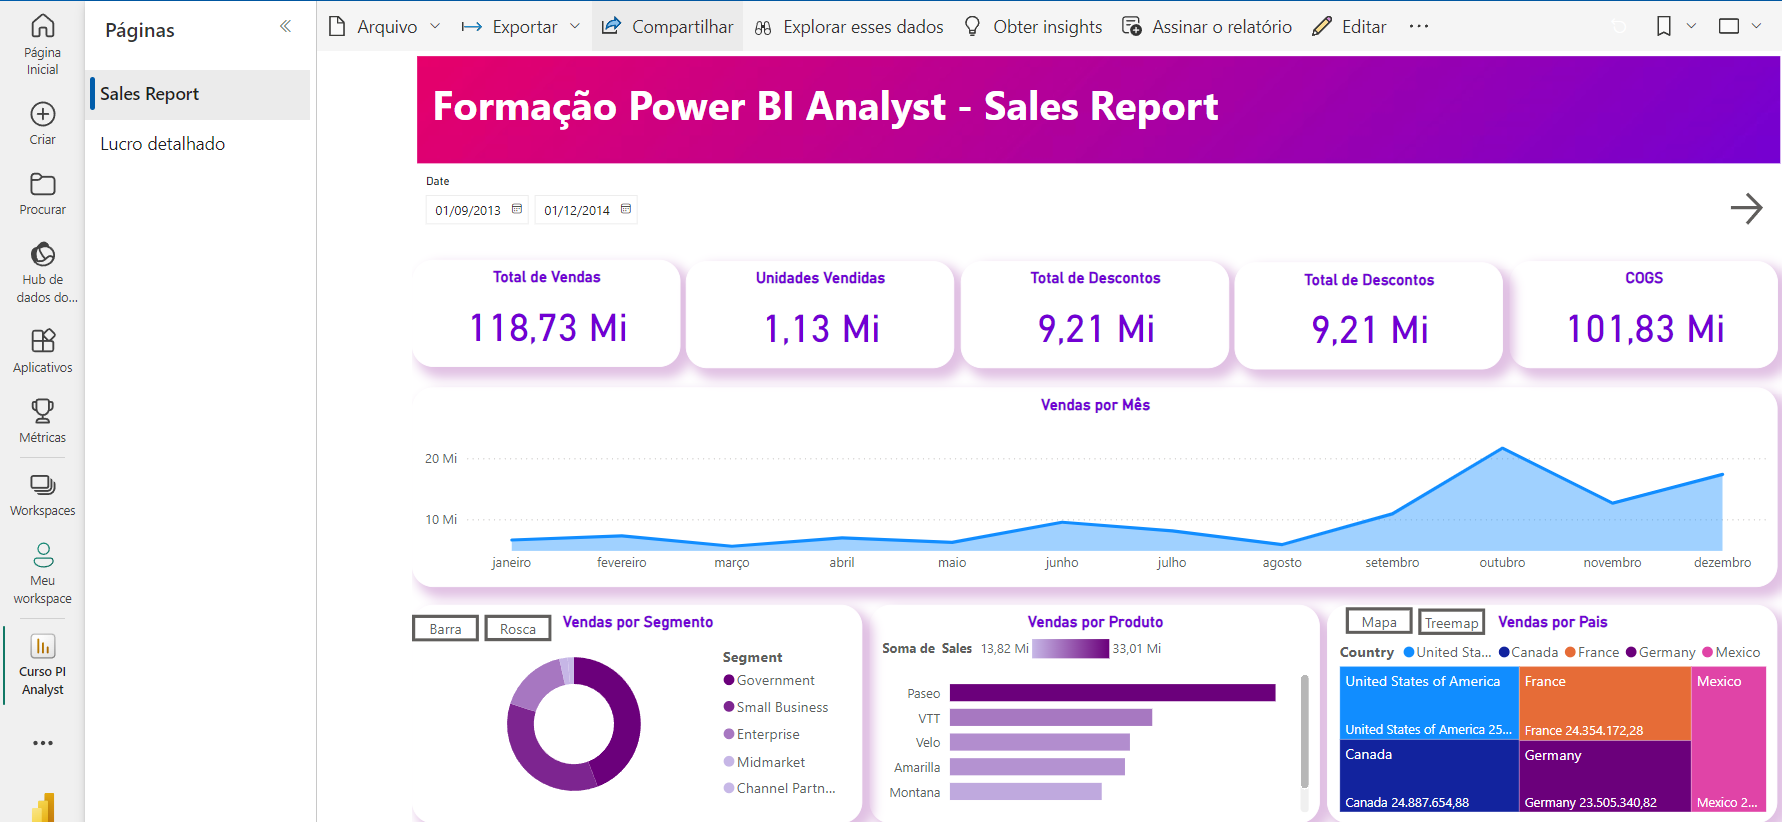

This screenshot's page, from the dashboard's own definition file:
{"tool":"powerbi","page":{"name":"Página 1","canvas":[1280,720],"ordinal":0},"visuals":[{"type":"group","id":"g1","title":"Titulo PrincipaL","box":[0,0,1280.3,109.8],"z":0},{"type":"group","id":"g2","title":"Grupo 2","box":[0,0,1280.3,109.8],"z":0,"group":"g1"},{"type":"image","box":[0,0,1280.2,109.5],"z":0,"group":"g2"},{"type":"card","title":"COGS","fields":{"Values":["Sum(financials.COGS)"]},"box":[1023.6,196.6,250,100.2],"z":0,"group":"g3"},{"type":"treemap","title":"Vendas por Pais","fields":{"Group":["financials.Country"],"Values":["Sum(financials. Sales)"],"Details":["financials.Country"]},"box":[853.8,516.2,420,203.8],"z":0,"group":"g5"},{"type":"textbox","box":[13.7,19.3,1037.8,63.8],"z":1000,"group":"g2"},{"type":"card","title":"Total de Vendas","fields":{"Values":["Sum(financials. Sales)"]},"box":[0,195.2,250,100.2],"z":1000,"group":"g3"},{"type":"areaChart","title":"Vendas por Mês","fields":{"Y":["Sum(financials. Sales)"],"Category":["financials.Date.Variation.Hierarquia de datas.Mês"]},"box":[0,313.2,1273.4,186.6],"z":1000},{"type":"donutChart","title":"Vendas por Segmento","fields":{"Category":["financials.Segment"],"Y":["Sum(financials. Sales)"]},"box":[0,516.2,420,203.8],"z":1000,"group":"g4"},{"type":"card","title":"Unidades Vendidas","fields":{"Values":["Sum(financials.Units Sold)"]},"box":[255.8,196.6,250,100.2],"z":2000,"group":"g3"},{"type":"clusteredBarChart","title":"Vendas por Produto","fields":{"Y":["Sum(financials. Sales)"],"Category":["financials.Product"]},"box":[426.9,516.2,420,203.8],"z":2000},{"type":"actionButton","title":"Mapa","box":[870.8,518.9,62.5,25],"z":2000,"group":"g5"},{"type":"slicer","fields":{"Values":["financials.Date"]},"box":[0,110,298.8,73.8],"z":3000},{"type":"card","title":"Total de Descontos","fields":{"Values":["Sum(financials.Discounts)"]},"box":[511.7,196.6,250,100.2],"z":3000,"group":"g3"},{"type":"actionButton","title":"treemap","box":[938.8,519.3,62.7,24.7],"z":3000,"group":"g5"},{"type":"group","id":"g3","title":"Cards primários","box":[0,195.2,1273.6,102.9],"z":4000},{"type":"card","title":"Total de Descontos","fields":{"Values":["Sum(financials.Discounts)"]},"box":[767.6,197.9,250,100.2],"z":4000,"group":"g3"},{"type":"group","id":"g4","title":"Vendas por Segmento","box":[0,516.2,420,203.8],"z":5000},{"type":"group","id":"g5","title":"Vendas por Pais","box":[853.8,516.2,426.2,203.8],"z":6000},{"type":"actionButton","title":"Proxima pagina","box":[1223.8,127.5,50,40],"z":7000},{"type":"actionButton","title":"Barra","box":[0,525,62.5,25],"z":8000,"group":"g4"},{"type":"actionButton","title":"Rosca","box":[68,525.3,62.7,24.7],"z":9000,"group":"g4"}]}

Visuals, with their boxes on the page's 1280x720 design canvas (x1, y1, x2, y2). These are canvas units, not pixel positions in the 1782x822 screenshot, which may show the page scaled, cropped or inside an application window:
"Titulo PrincipaL" group: (0, 0, 1280, 110)
"Grupo 2" group: (0, 0, 1280, 110)
image: (0, 0, 1280, 110)
"COGS" card: (1024, 197, 1274, 297)
"Vendas por Pais" treemap: (854, 516, 1274, 720)
textbox: (14, 19, 1052, 83)
"Total de Vendas" card: (0, 195, 250, 295)
"Vendas por Mês" areaChart: (0, 313, 1273, 500)
"Vendas por Segmento" donutChart: (0, 516, 420, 720)
"Unidades Vendidas" card: (256, 197, 506, 297)
"Vendas por Produto" clusteredBarChart: (427, 516, 847, 720)
"Mapa" actionButton: (871, 519, 933, 544)
slicer - financials.Date: (0, 110, 299, 184)
"Total de Descontos" card: (512, 197, 762, 297)
"treemap" actionButton: (939, 519, 1002, 544)
"Cards primários" group: (0, 195, 1274, 298)
"Total de Descontos" card: (768, 198, 1018, 298)
"Vendas por Segmento" group: (0, 516, 420, 720)
"Vendas por Pais" group: (854, 516, 1280, 720)
"Proxima pagina" actionButton: (1224, 128, 1274, 168)
"Barra" actionButton: (0, 525, 62, 550)
"Rosca" actionButton: (68, 525, 131, 550)
